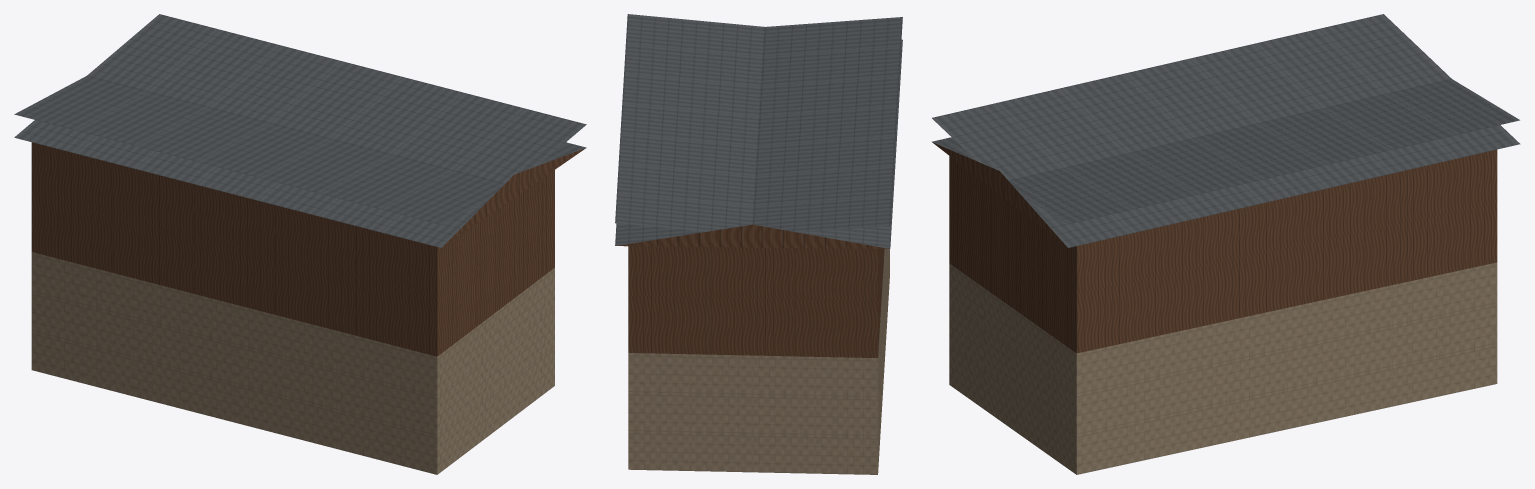
File: bld_c44_11_561.gltf
3 renders of one model, left to right at view 1: azimuth 30°, elevation 25°; view 2: azimuth 150°, elevation 25°; view 3: azimuth 270°, elevation 25°, orthographic. The views are drawn at different scales.
Visible parts, largest first — view 1: bld_c44_11_561; view 2: bld_c44_11_561; view 3: bld_c44_11_561.
Boxes of the visible parts, left/top/right/bottom form: bld_c44_11_561: left=14, top=14, right=586, bottom=474; bld_c44_11_561: left=615, top=14, right=902, bottom=474; bld_c44_11_561: left=931, top=14, right=1520, bottom=474.
Bounding box in the file's own units: 18.92 × 11.1 × 22.4.
4 materials, 4 textured.
